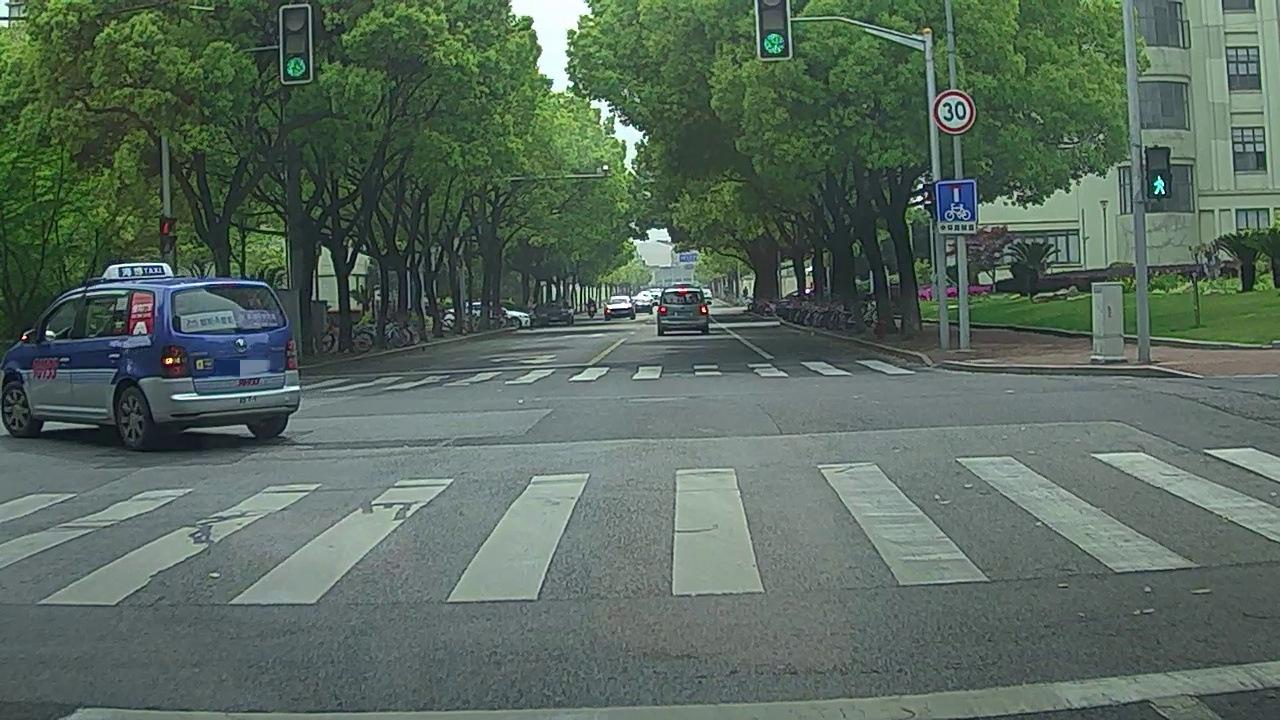traffic_light: (279, 4, 312, 76), (752, 1, 792, 51)
